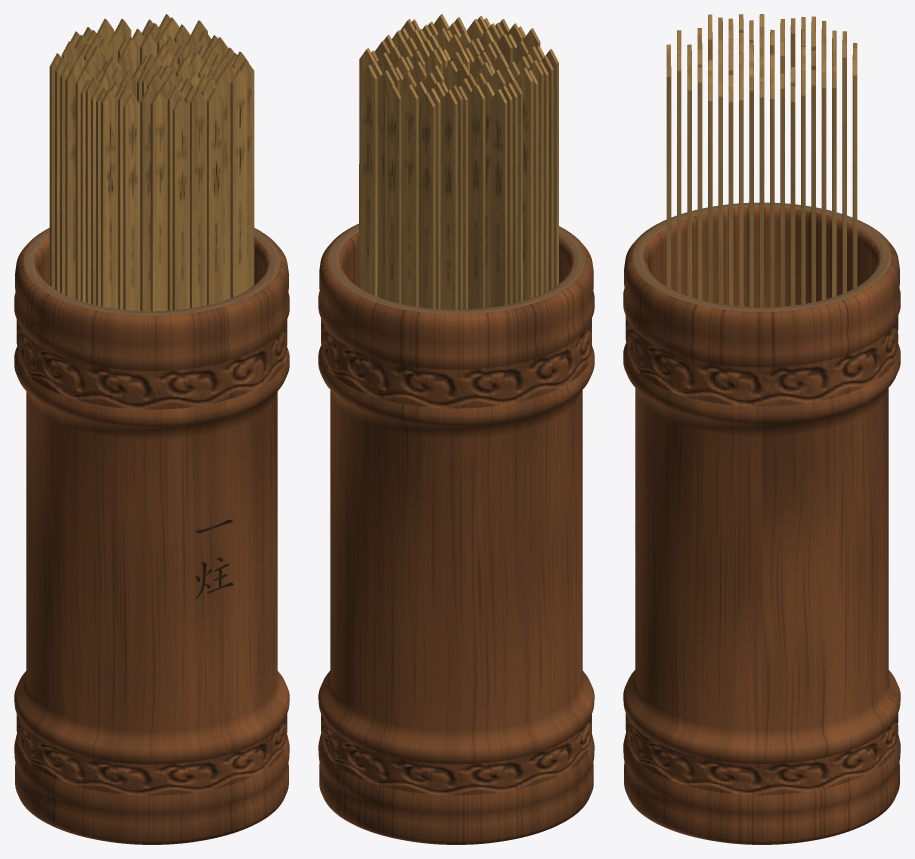
The model's file is yizhu-collar-webp-mobile-bb7dd7e61fcf.glb.
3 renders of one model, left to right at view 1: azimuth 30°, elevation 25°; view 2: azimuth 150°, elevation 25°; view 3: azimuth 270°, elevation 25°, orthographic.
Parts seen in each view (by area): view 1: Wood_vessel_surface, Timber incised collar 1, Timber incised collar 0, Stick_049, Stick_010, Stick_040, Stick_052, Stick_073, Stick_079, Stick_019, Stick_027, Stick_058 (+12 smaller); view 2: Wood_vessel_surface, Timber incised collar 1, Timber incised collar 0, Stick_089, Stick_021, Stick_013, Stick_044, Stick_064, Stick_034, Stick_085, Stick_086, Stick_028 (+14 smaller); view 3: Wood_vessel_surface, Timber incised collar 1, Timber incised collar 0, Stick_019, Stick_003, Stick_078, Stick_009, Stick_083, Stick_097, Stick_063, Stick_100, Stick_015 (+10 smaller).
Boxes of the visible parts, bbox=[...] form: Wood_vessel_surface: bbox=[14, 228, 289, 844]; Timber incised collar 1: bbox=[16, 319, 287, 409]; Timber incised collar 0: bbox=[16, 714, 287, 795]; Stick_049: bbox=[230, 69, 247, 297]; Stick_010: bbox=[150, 90, 167, 311]; Stick_040: bbox=[172, 96, 189, 310]; Stick_052: bbox=[101, 88, 117, 308]; Stick_073: bbox=[190, 88, 206, 308]; Stick_079: bbox=[123, 93, 139, 310]; Stick_019: bbox=[207, 88, 223, 305]; Stick_027: bbox=[65, 66, 79, 298]; Stick_058: bbox=[140, 88, 154, 311]; Wood_vessel_surface: bbox=[318, 223, 594, 844]; Timber incised collar 1: bbox=[321, 318, 591, 408]; Timber incised collar 0: bbox=[321, 714, 591, 795]; Stick_089: bbox=[468, 84, 485, 309]; Stick_021: bbox=[401, 84, 418, 306]; Stick_013: bbox=[490, 89, 507, 307]; Stick_044: bbox=[384, 84, 401, 303]; Stick_064: bbox=[361, 64, 377, 296]; Stick_034: bbox=[441, 89, 457, 309]; Stick_085: bbox=[419, 92, 435, 308]; Stick_086: bbox=[516, 67, 533, 300]; Stick_028: bbox=[378, 70, 394, 299]; Wood_vessel_surface: bbox=[623, 202, 900, 844]; Timber incised collar 1: bbox=[625, 315, 898, 406]; Timber incised collar 0: bbox=[625, 713, 898, 795]; Stick_019: bbox=[666, 61, 671, 288]; Stick_003: bbox=[821, 72, 826, 300]; Stick_078: bbox=[759, 82, 764, 307]; Stick_009: bbox=[790, 86, 795, 305]; Stick_083: bbox=[728, 86, 733, 305]; Stick_097: bbox=[842, 42, 846, 293]; Stick_063: bbox=[677, 55, 681, 293]; Stick_100: bbox=[780, 73, 784, 306]; Stick_015: bbox=[697, 67, 701, 300].
Bounding box in the file's own units: 0.1288 × 0.381 × 0.1288.
Materials: 6 (5 with a texture image).
